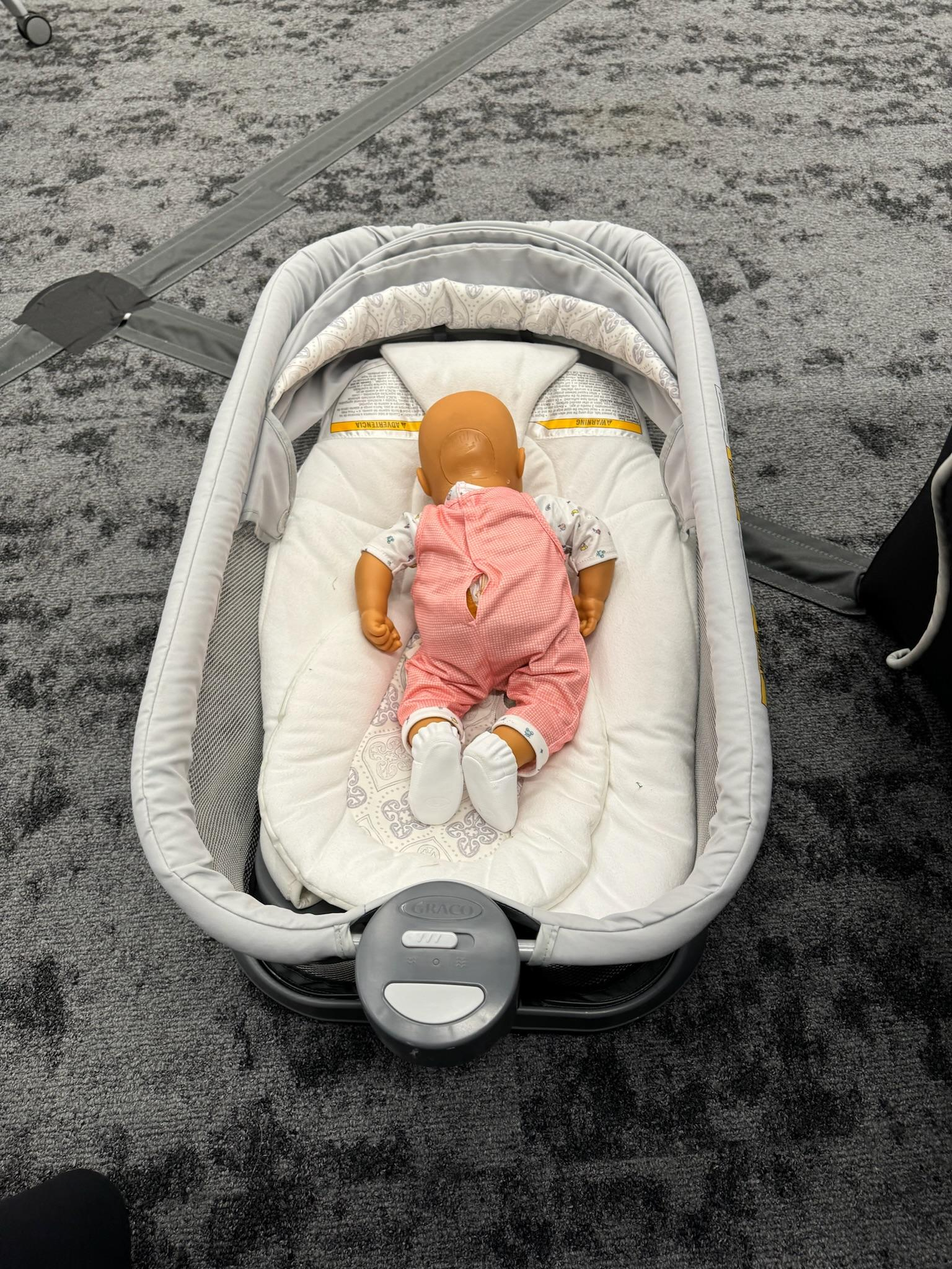baby: (339, 377, 623, 840)
